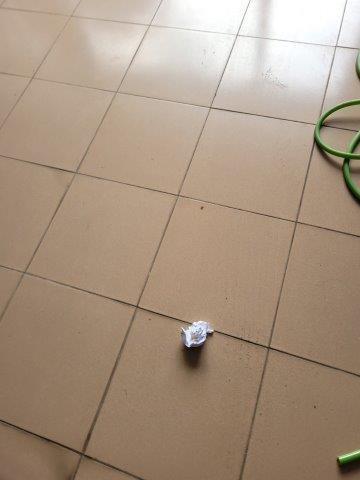kertas: (178, 322, 213, 352)
